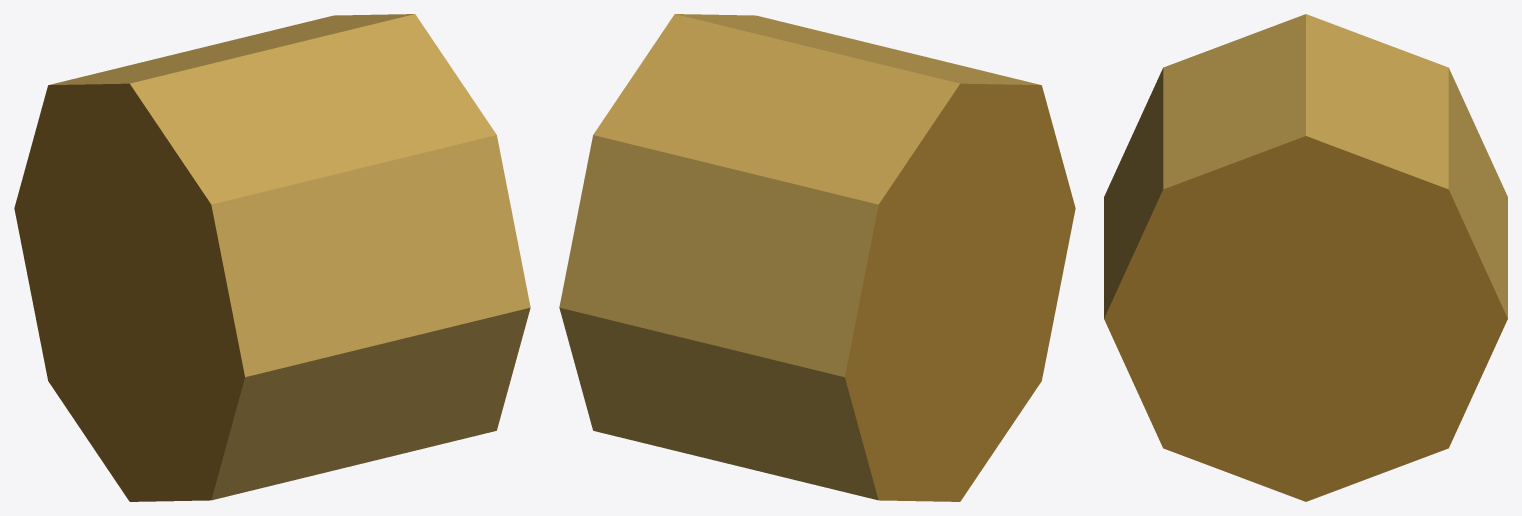
Rendered from biome-orchard-hayBale.glb.
3 views of the same model, side by side, from view 1: azimuth 30°, elevation 25°; view 2: azimuth 150°, elevation 25°; view 3: azimuth 270°, elevation 25° (orthographic). The views are drawn at different scales.
Size of the model in its own units: 0.5 by 0.7 by 0.7.
